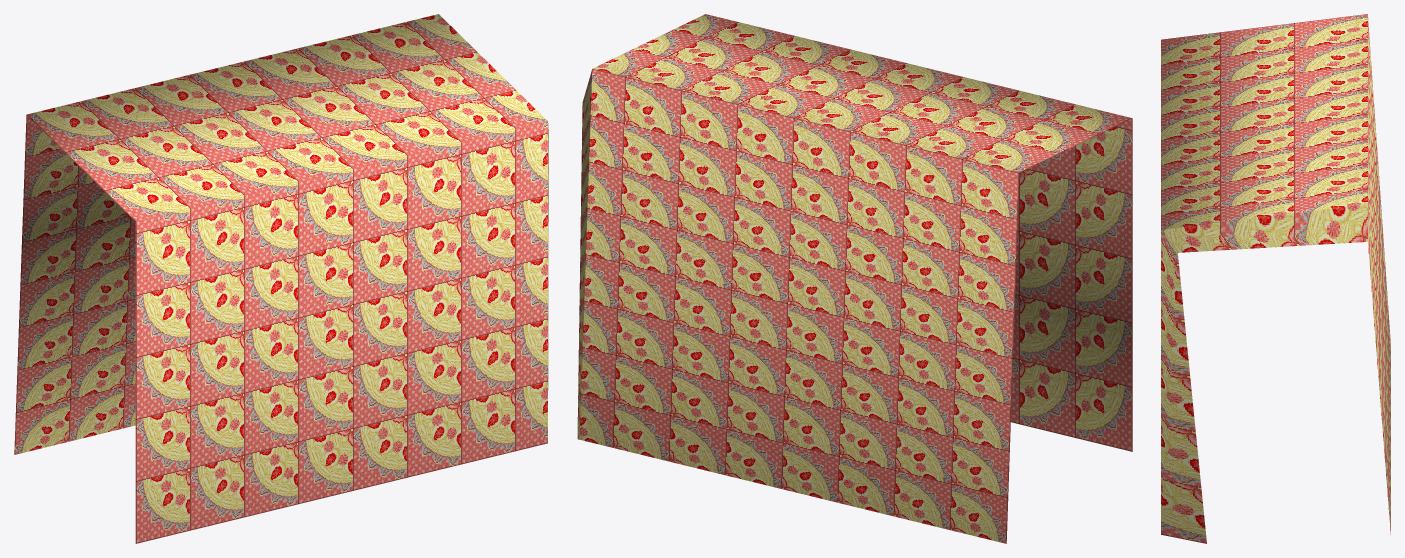
The model's file is 4672floor000_c.gltf.
3 renders of one model, left to right at view 1: azimuth 30°, elevation 25°; view 2: azimuth 150°, elevation 25°; view 3: azimuth 270°, elevation 25°, orthographic. The views are drawn at different scales.
Parts seen in each view (by area): view 1: 4672floor000_c; view 2: 4672floor000_c; view 3: 4672floor000_c.
Part boxes in pixels (box(x1,y1,x2,y2)): 4672floor000_c: box(14, 14, 548, 543); 4672floor000_c: box(577, 14, 1132, 543); 4672floor000_c: box(1161, 14, 1390, 543).
Size of the model in its own units: 2.05 by 1.59 by 1.
1 material, 1 textured.
